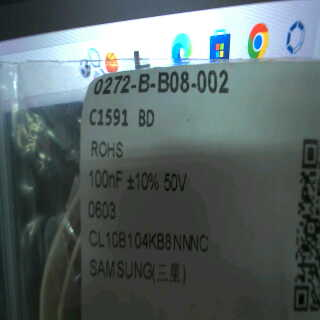100nF: (86, 166, 127, 194)
